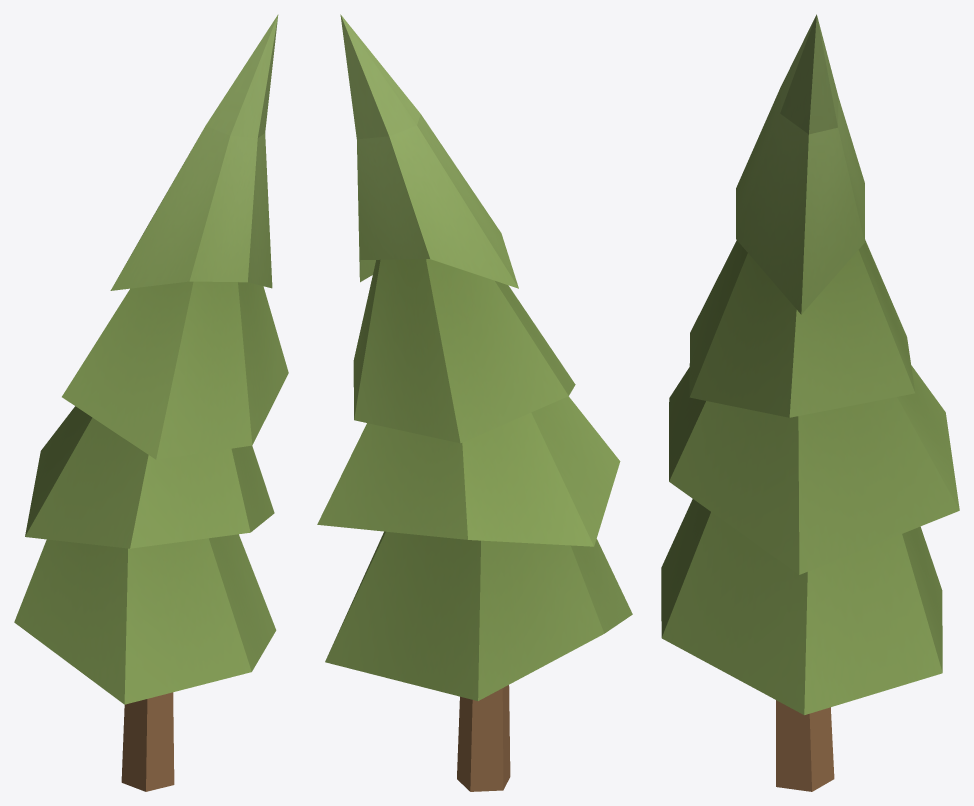
File: Pine_Tree_OneSided_m_11.fbx
3 views of the same model, side by side, from view 1: azimuth 30°, elevation 25°; view 2: azimuth 150°, elevation 25°; view 3: azimuth 270°, elevation 25° (orthographic). The views are drawn at different scales.
Parts seen in each view (by area): view 1: Pine_Tree_OneSided_m_11; view 2: Pine_Tree_OneSided_m_11; view 3: Pine_Tree_OneSided_m_11.
Boxes of the visible parts, x1,y1,x2,y2 form: Pine_Tree_OneSided_m_11: (14, 14, 288, 791); Pine_Tree_OneSided_m_11: (317, 14, 632, 791); Pine_Tree_OneSided_m_11: (661, 14, 959, 791).
Size of the model in its own units: 217 by 575 by 185.
